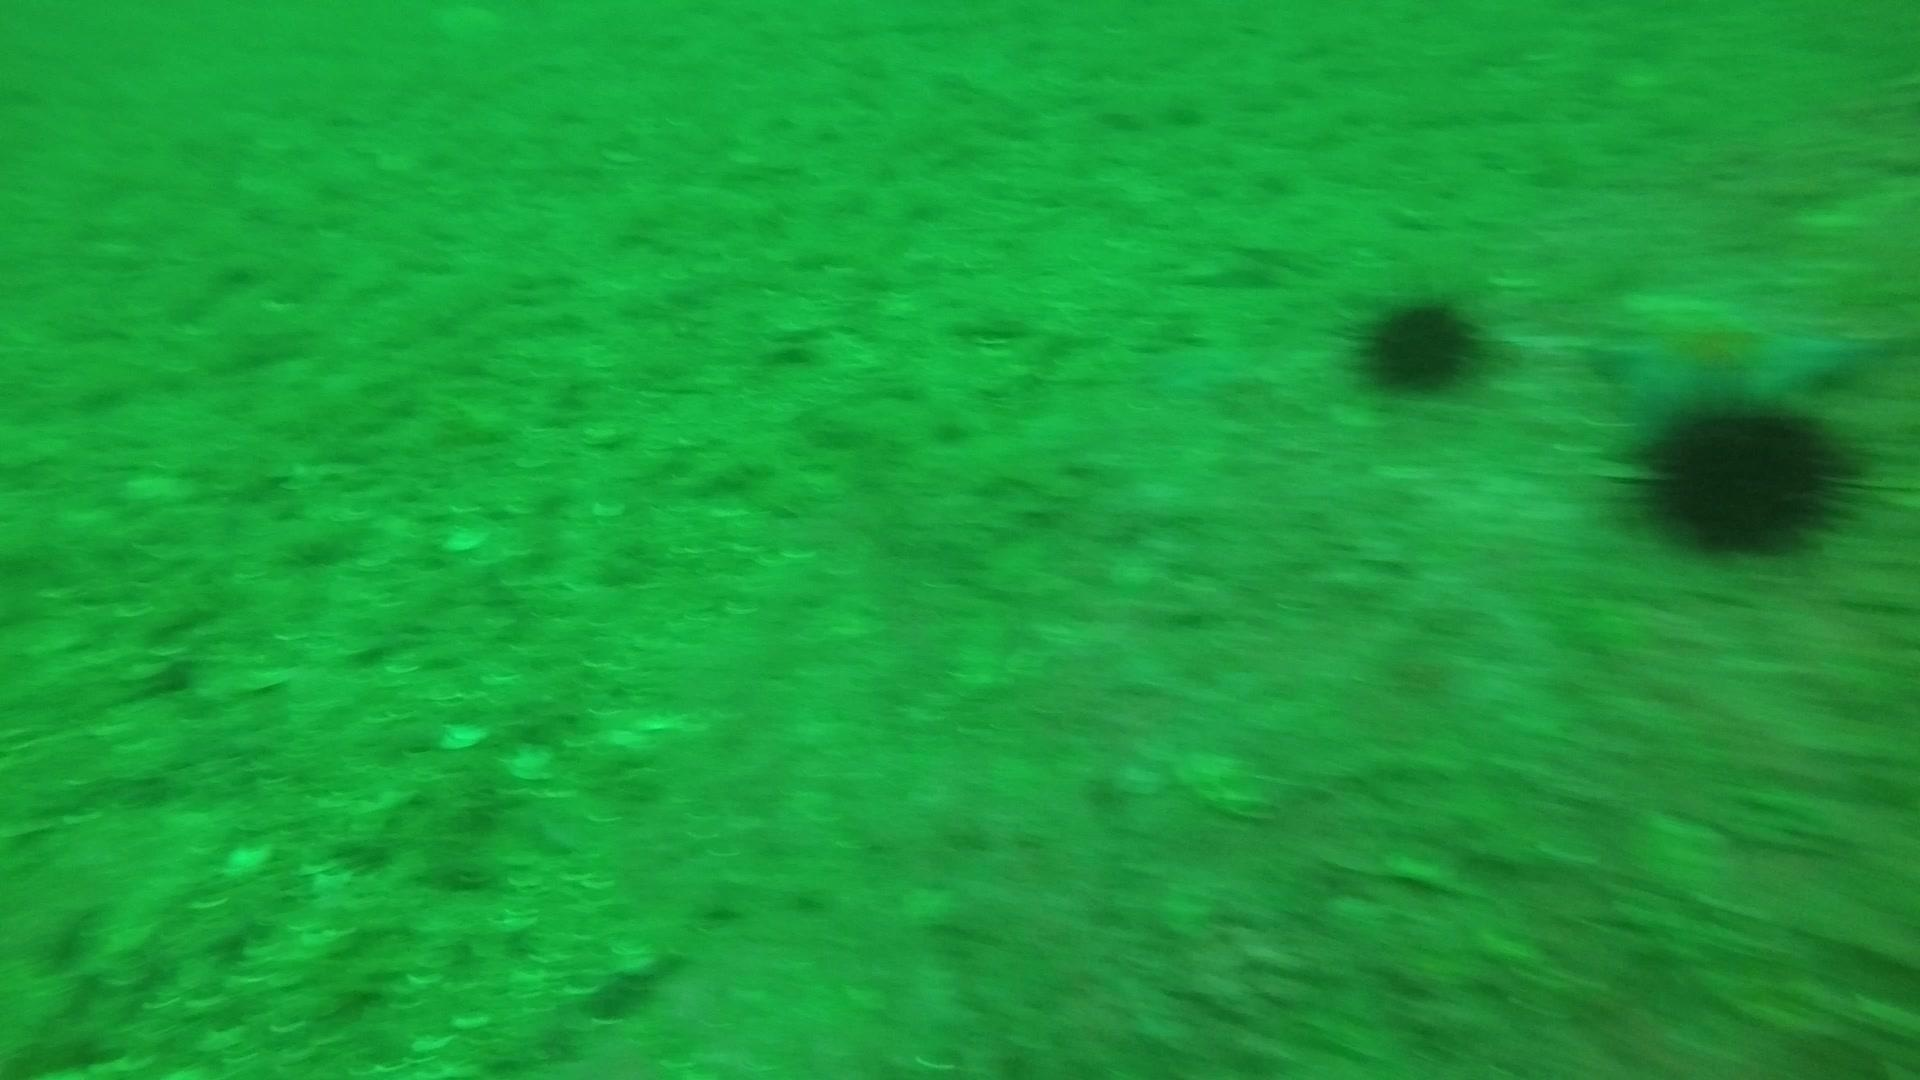echinus: (1615, 389, 1866, 563), (1348, 286, 1487, 401)
starfish: (1581, 280, 1894, 440)
